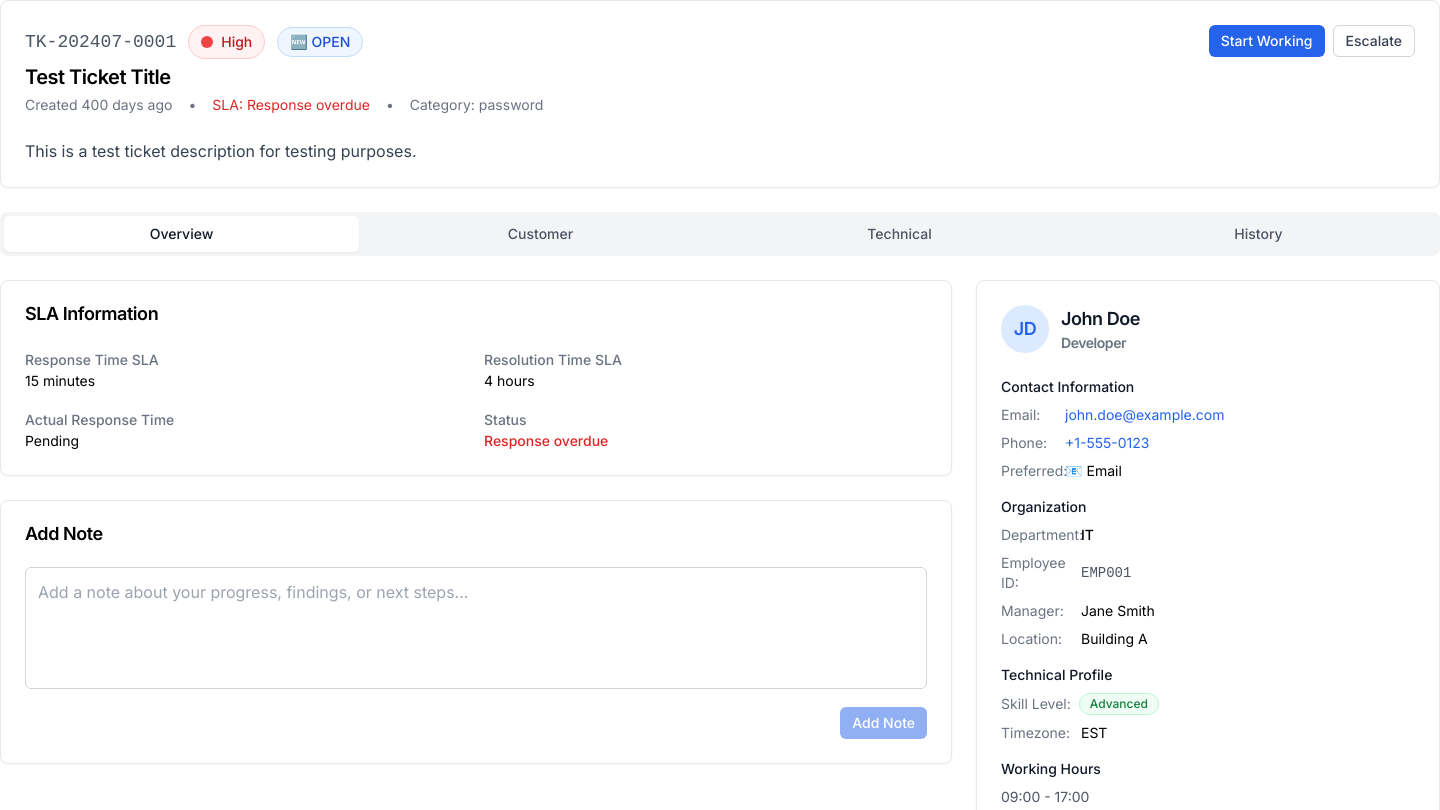
Test case: TicketPanel › History Section › should display history placeholder in history tab
Click the button "History": (1258, 234) [1081,216,1436,252]
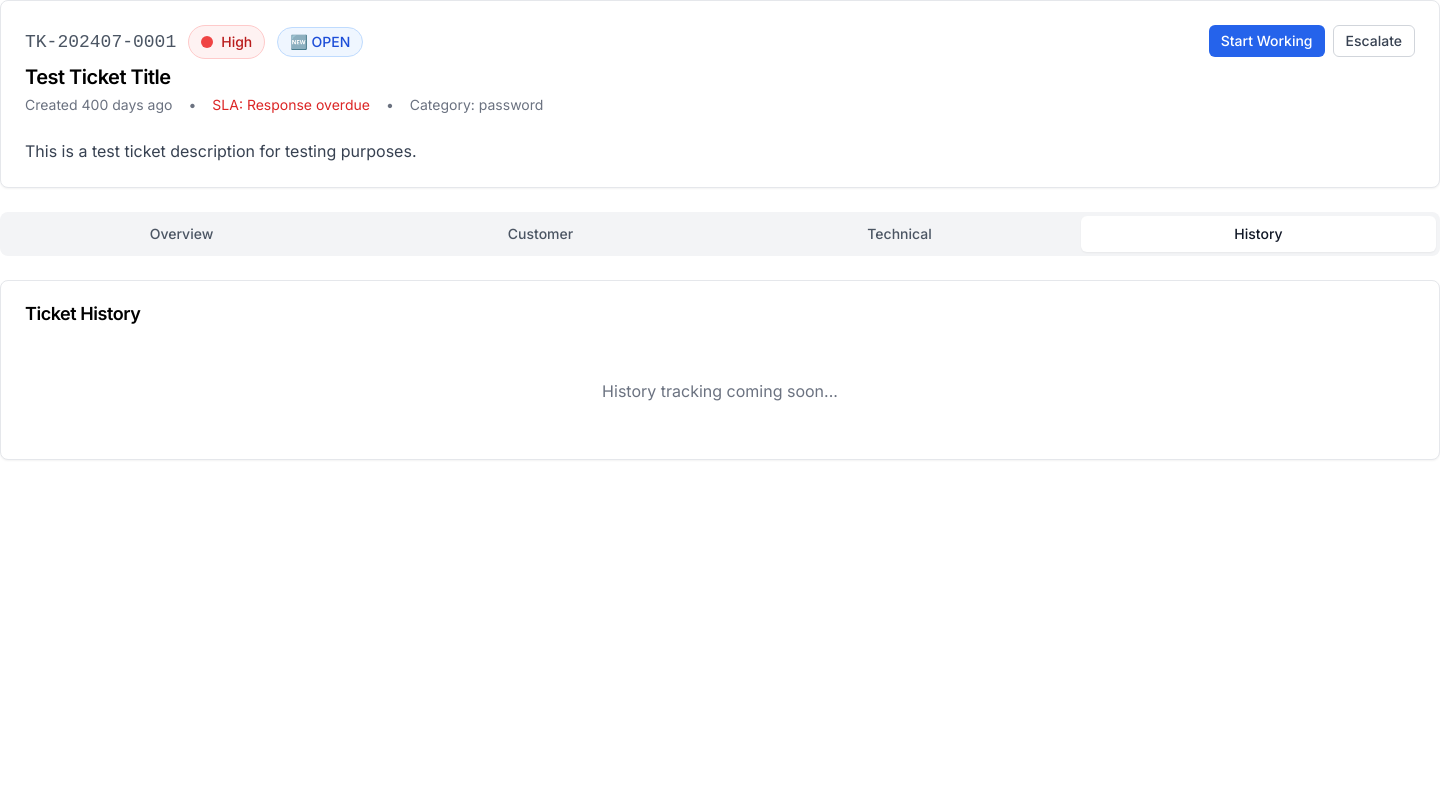
Expected: the text "History tracking coming soon..." is shown, [602,381,838,401]
